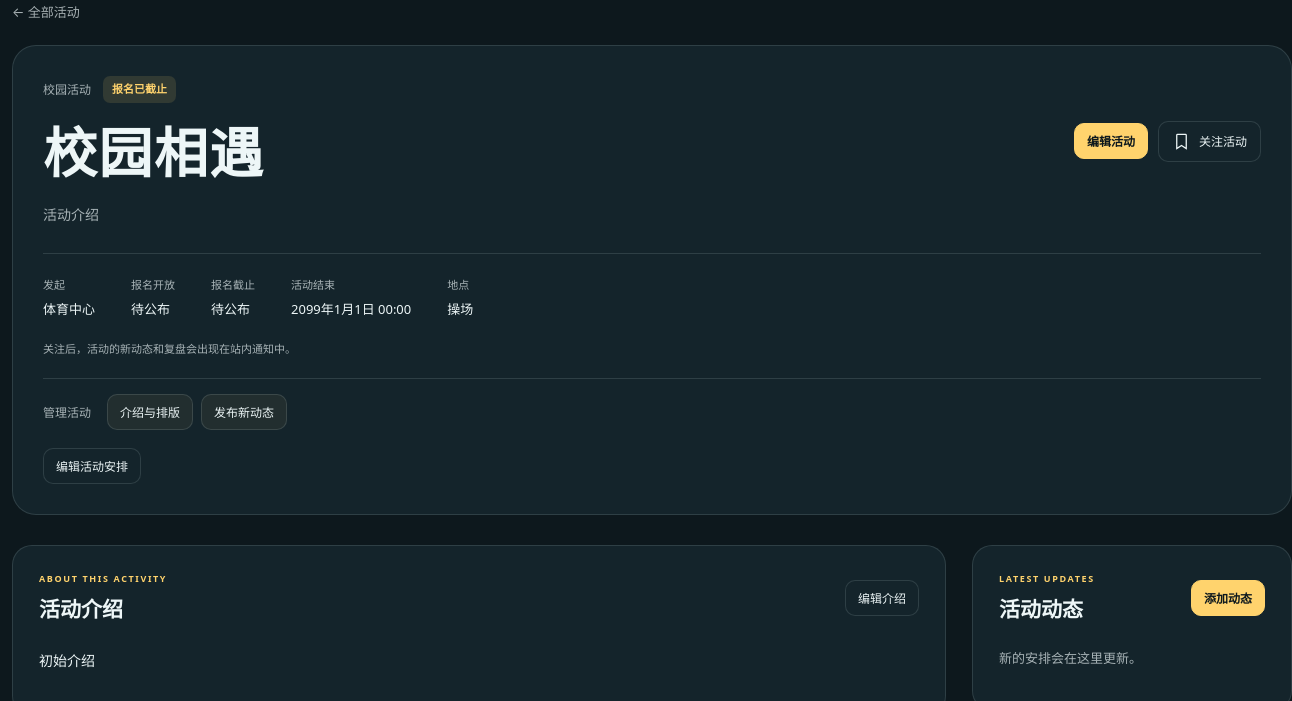
Test case: independent activity workspace › starts a timeline entry with a valid time and a one-click status suggestion
Click the button "添加动态" at {"x": 1228, "y": 598}, box [1191,580,1265,616]
(page scrolled)
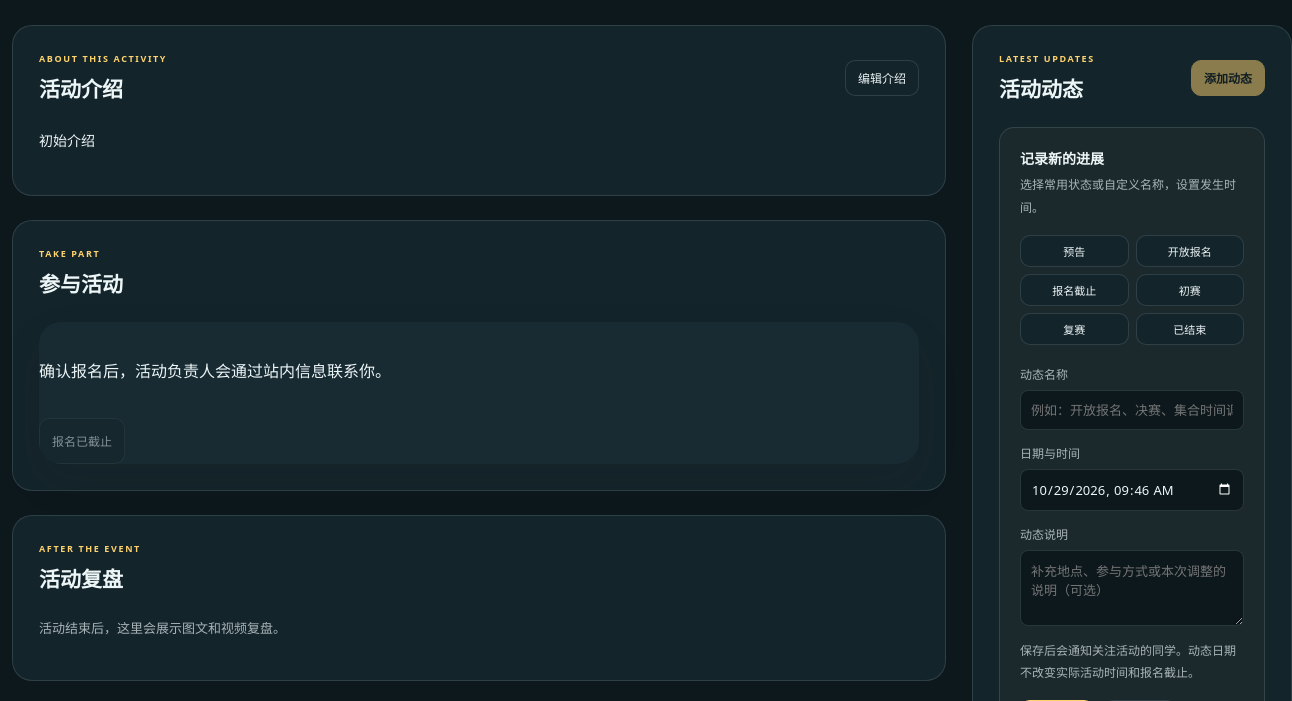
Expected: the field labelled "日期与时间" is not empty, [1020,469,1244,511]
Click the button "开放报名" at {"x": 1190, "y": 251}, box [1136,235,1244,267]
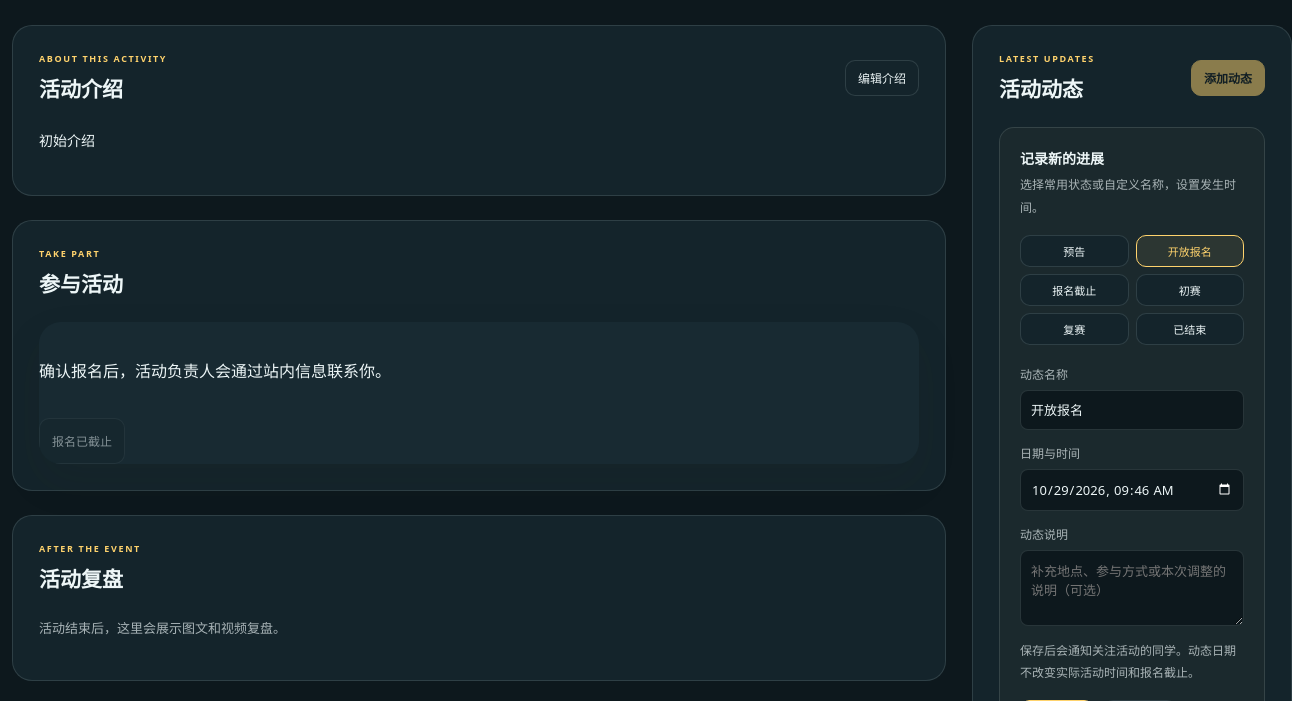
Expected: the field labelled "动态名称" holds "开放报名", [1020,390,1244,430]
